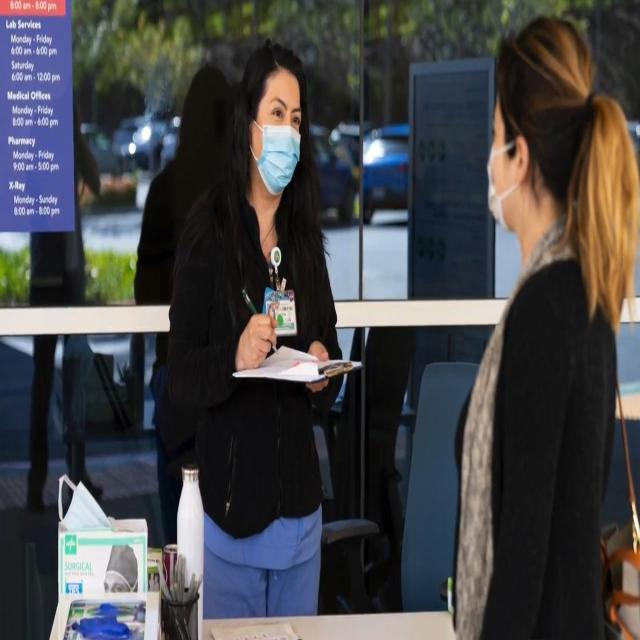Mask: (254, 67, 302, 196), (487, 88, 520, 233)
